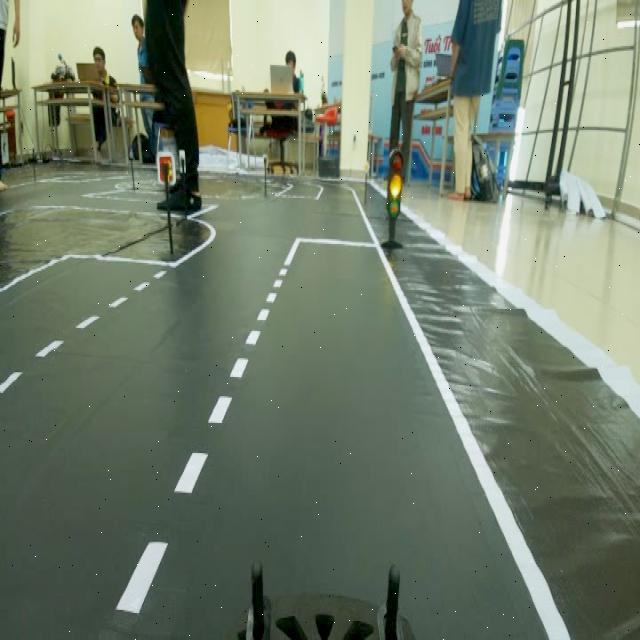trafficlight: (374, 140, 414, 278)
